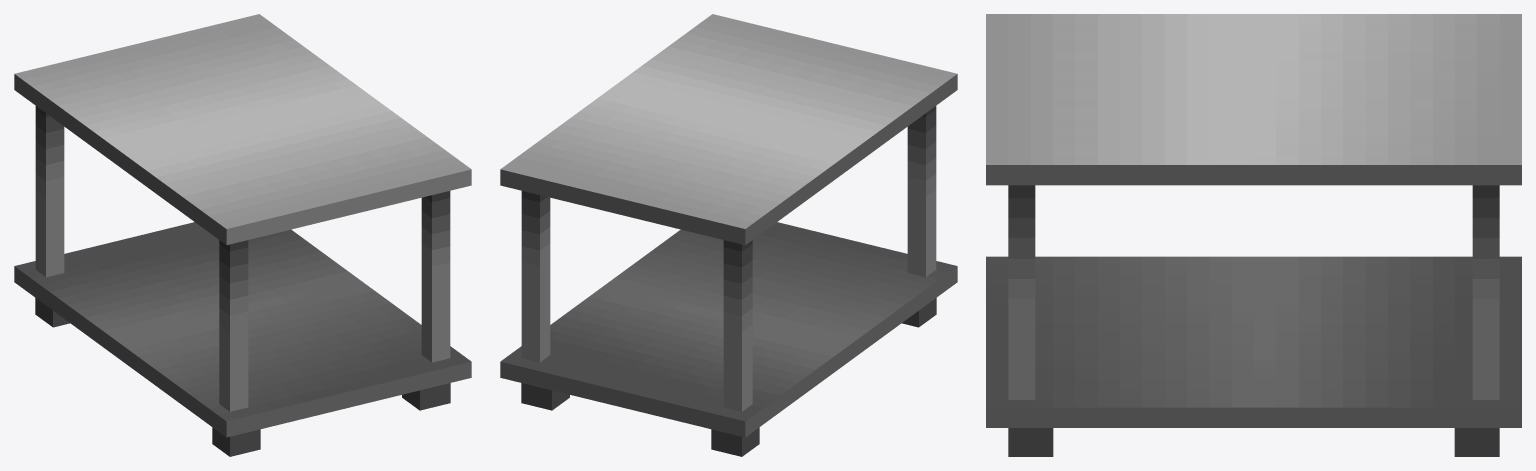
Rendered from Food Cart.gltf.
3 views of the same model, side by side, from view 1: azimuth 30°, elevation 25°; view 2: azimuth 150°, elevation 25°; view 3: azimuth 270°, elevation 25° (orthographic). The views are drawn at different scales.
Visible parts, largest first — view 1: cube (×8); view 2: cube (×8); view 3: cube (×6).
Part boxes in pixels (x1,y1,x2,y2): cube (×8): (14,14,471,456); cube (×8): (500,14,957,456); cube (×6): (986,14,1521,456).
Size of the model in its own units: 0.2501 by 0.2314 by 0.3751.
1 material, 1 textured.
